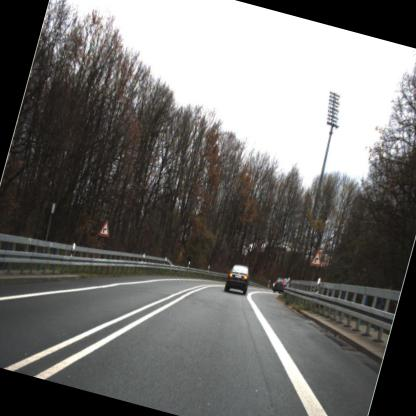danger: (93, 216, 114, 245), (306, 244, 324, 272)
